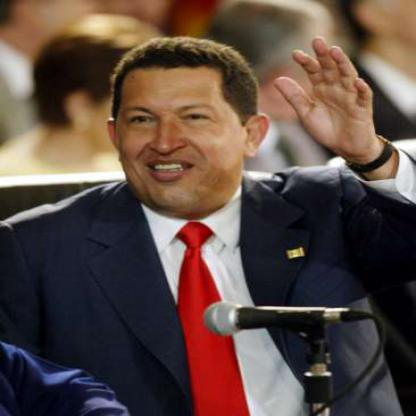face: (112, 42, 248, 213)
